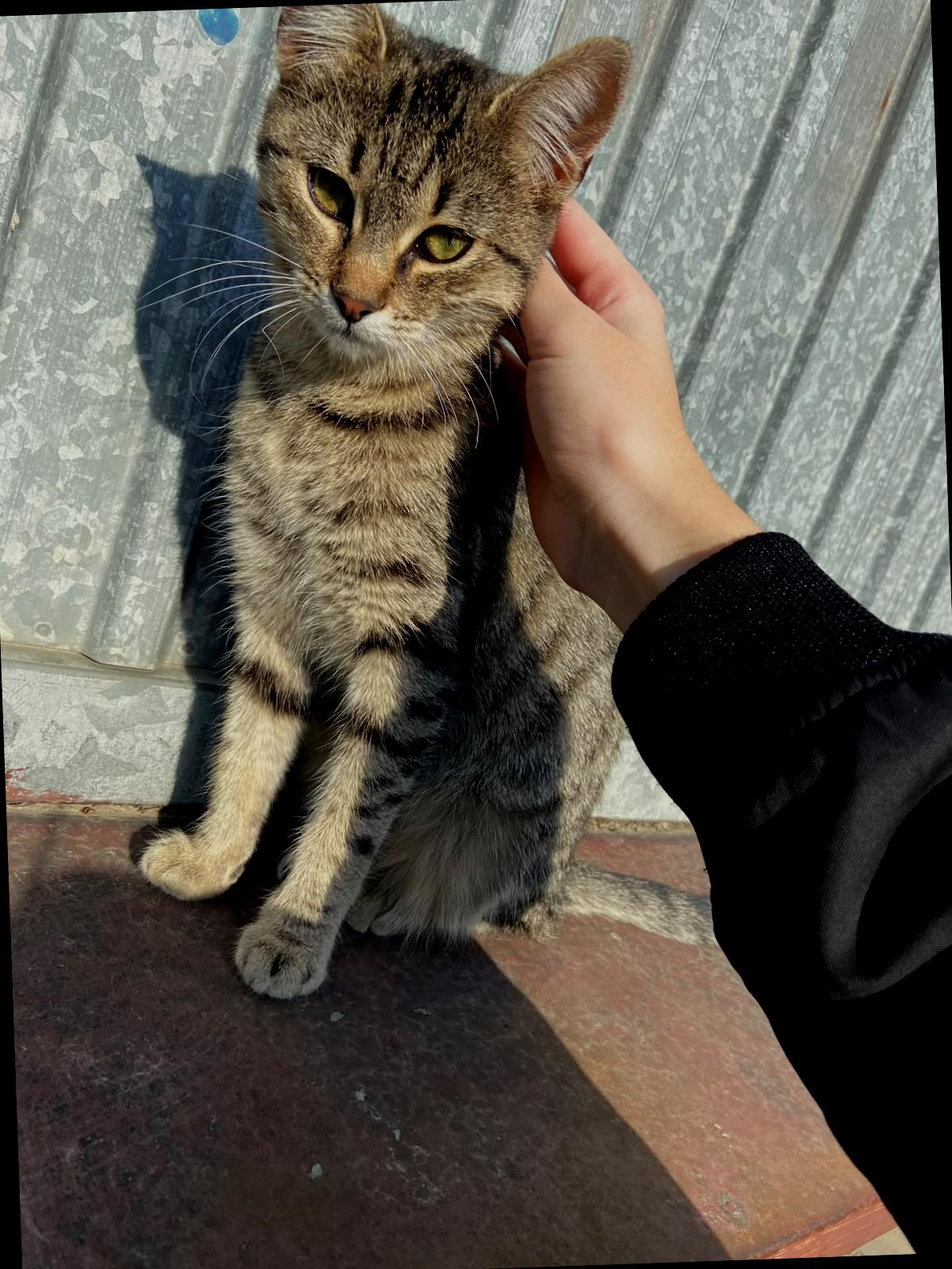macka: (104, 0, 671, 1003)
